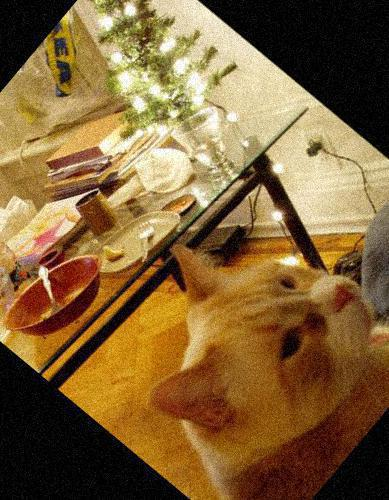Matera: (40, 0, 266, 179)
Otro Obstaculo: (55, 141, 389, 500)
